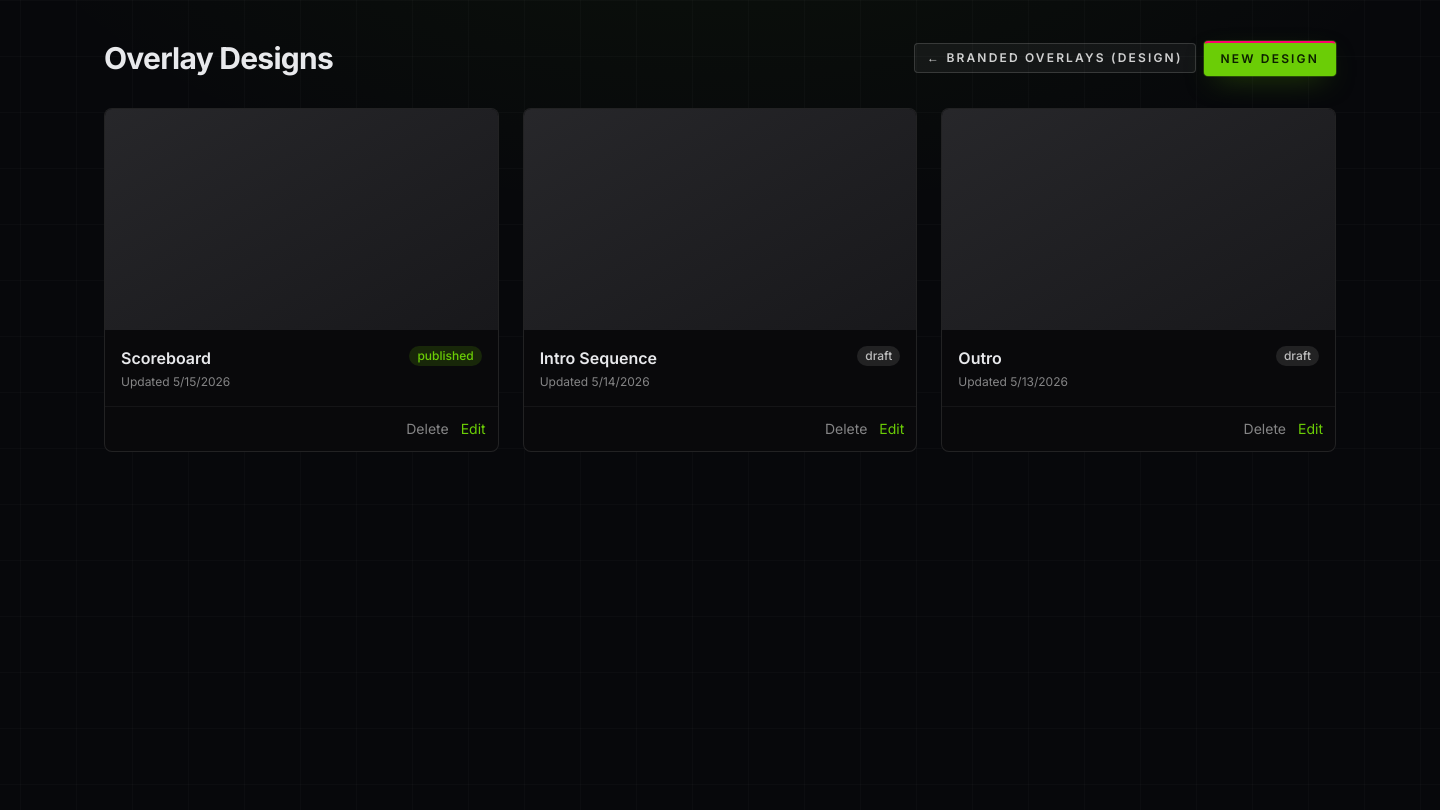
Test case: BuilderLibrary › clicking New Design opens the modal
Click the button "New Design". click: (1270, 58)
box: [1204,40,1336,76]
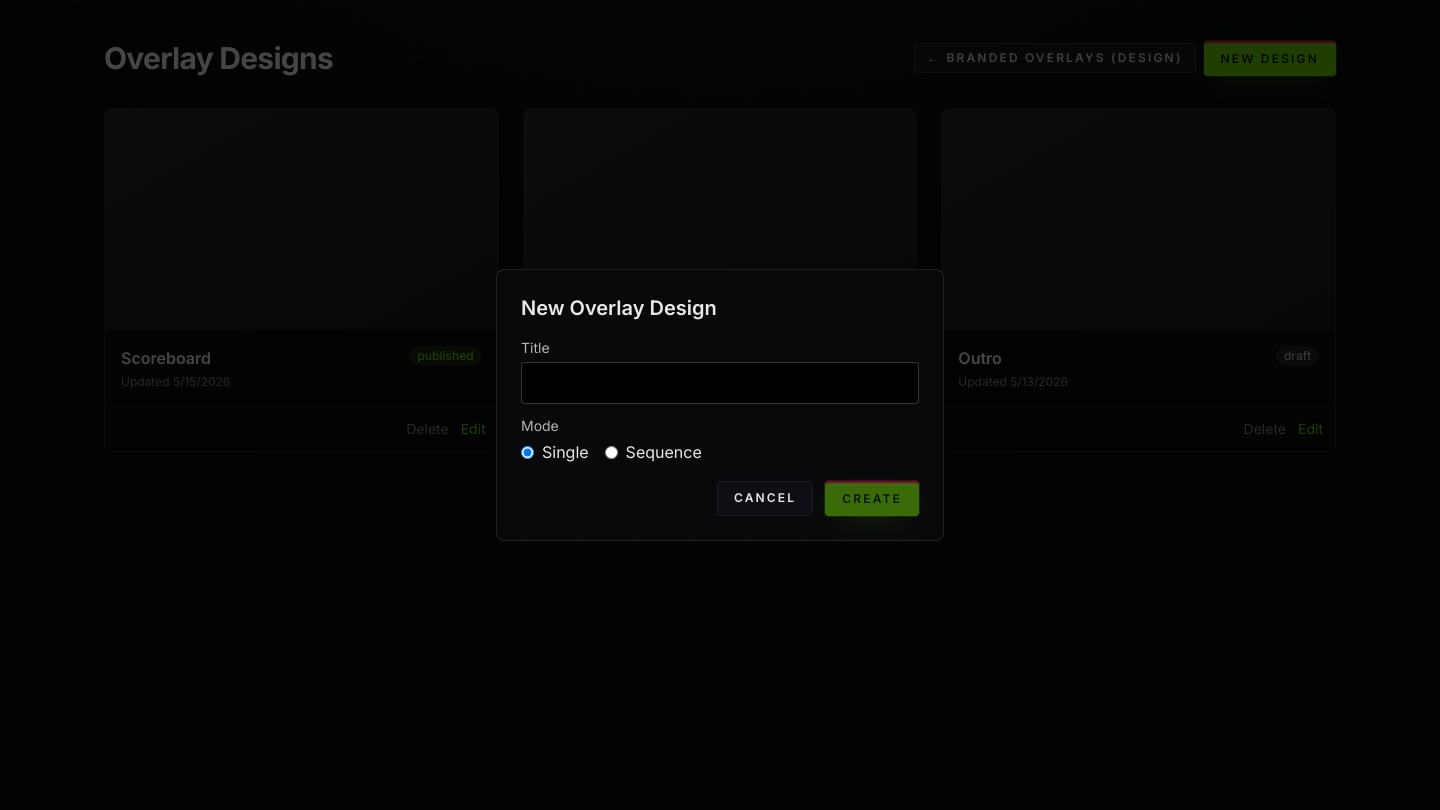
Check: the field labelled "Title" is shown, box [521,362,919,404]
Check: the radio button labelled "Single" is shown, box [521,446,534,459]
Check: the radio button labelled "Sequence" is shown, box [605,446,618,459]
